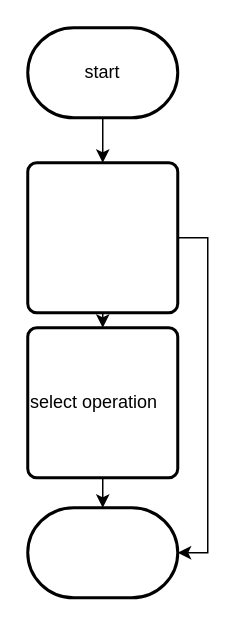
This 246x624 diagram has some shape labels left out. Each missing label, with the centre of its shape:
end: (x=102, y=552)
select mode * file * analysis * end: (x=102, y=237)
